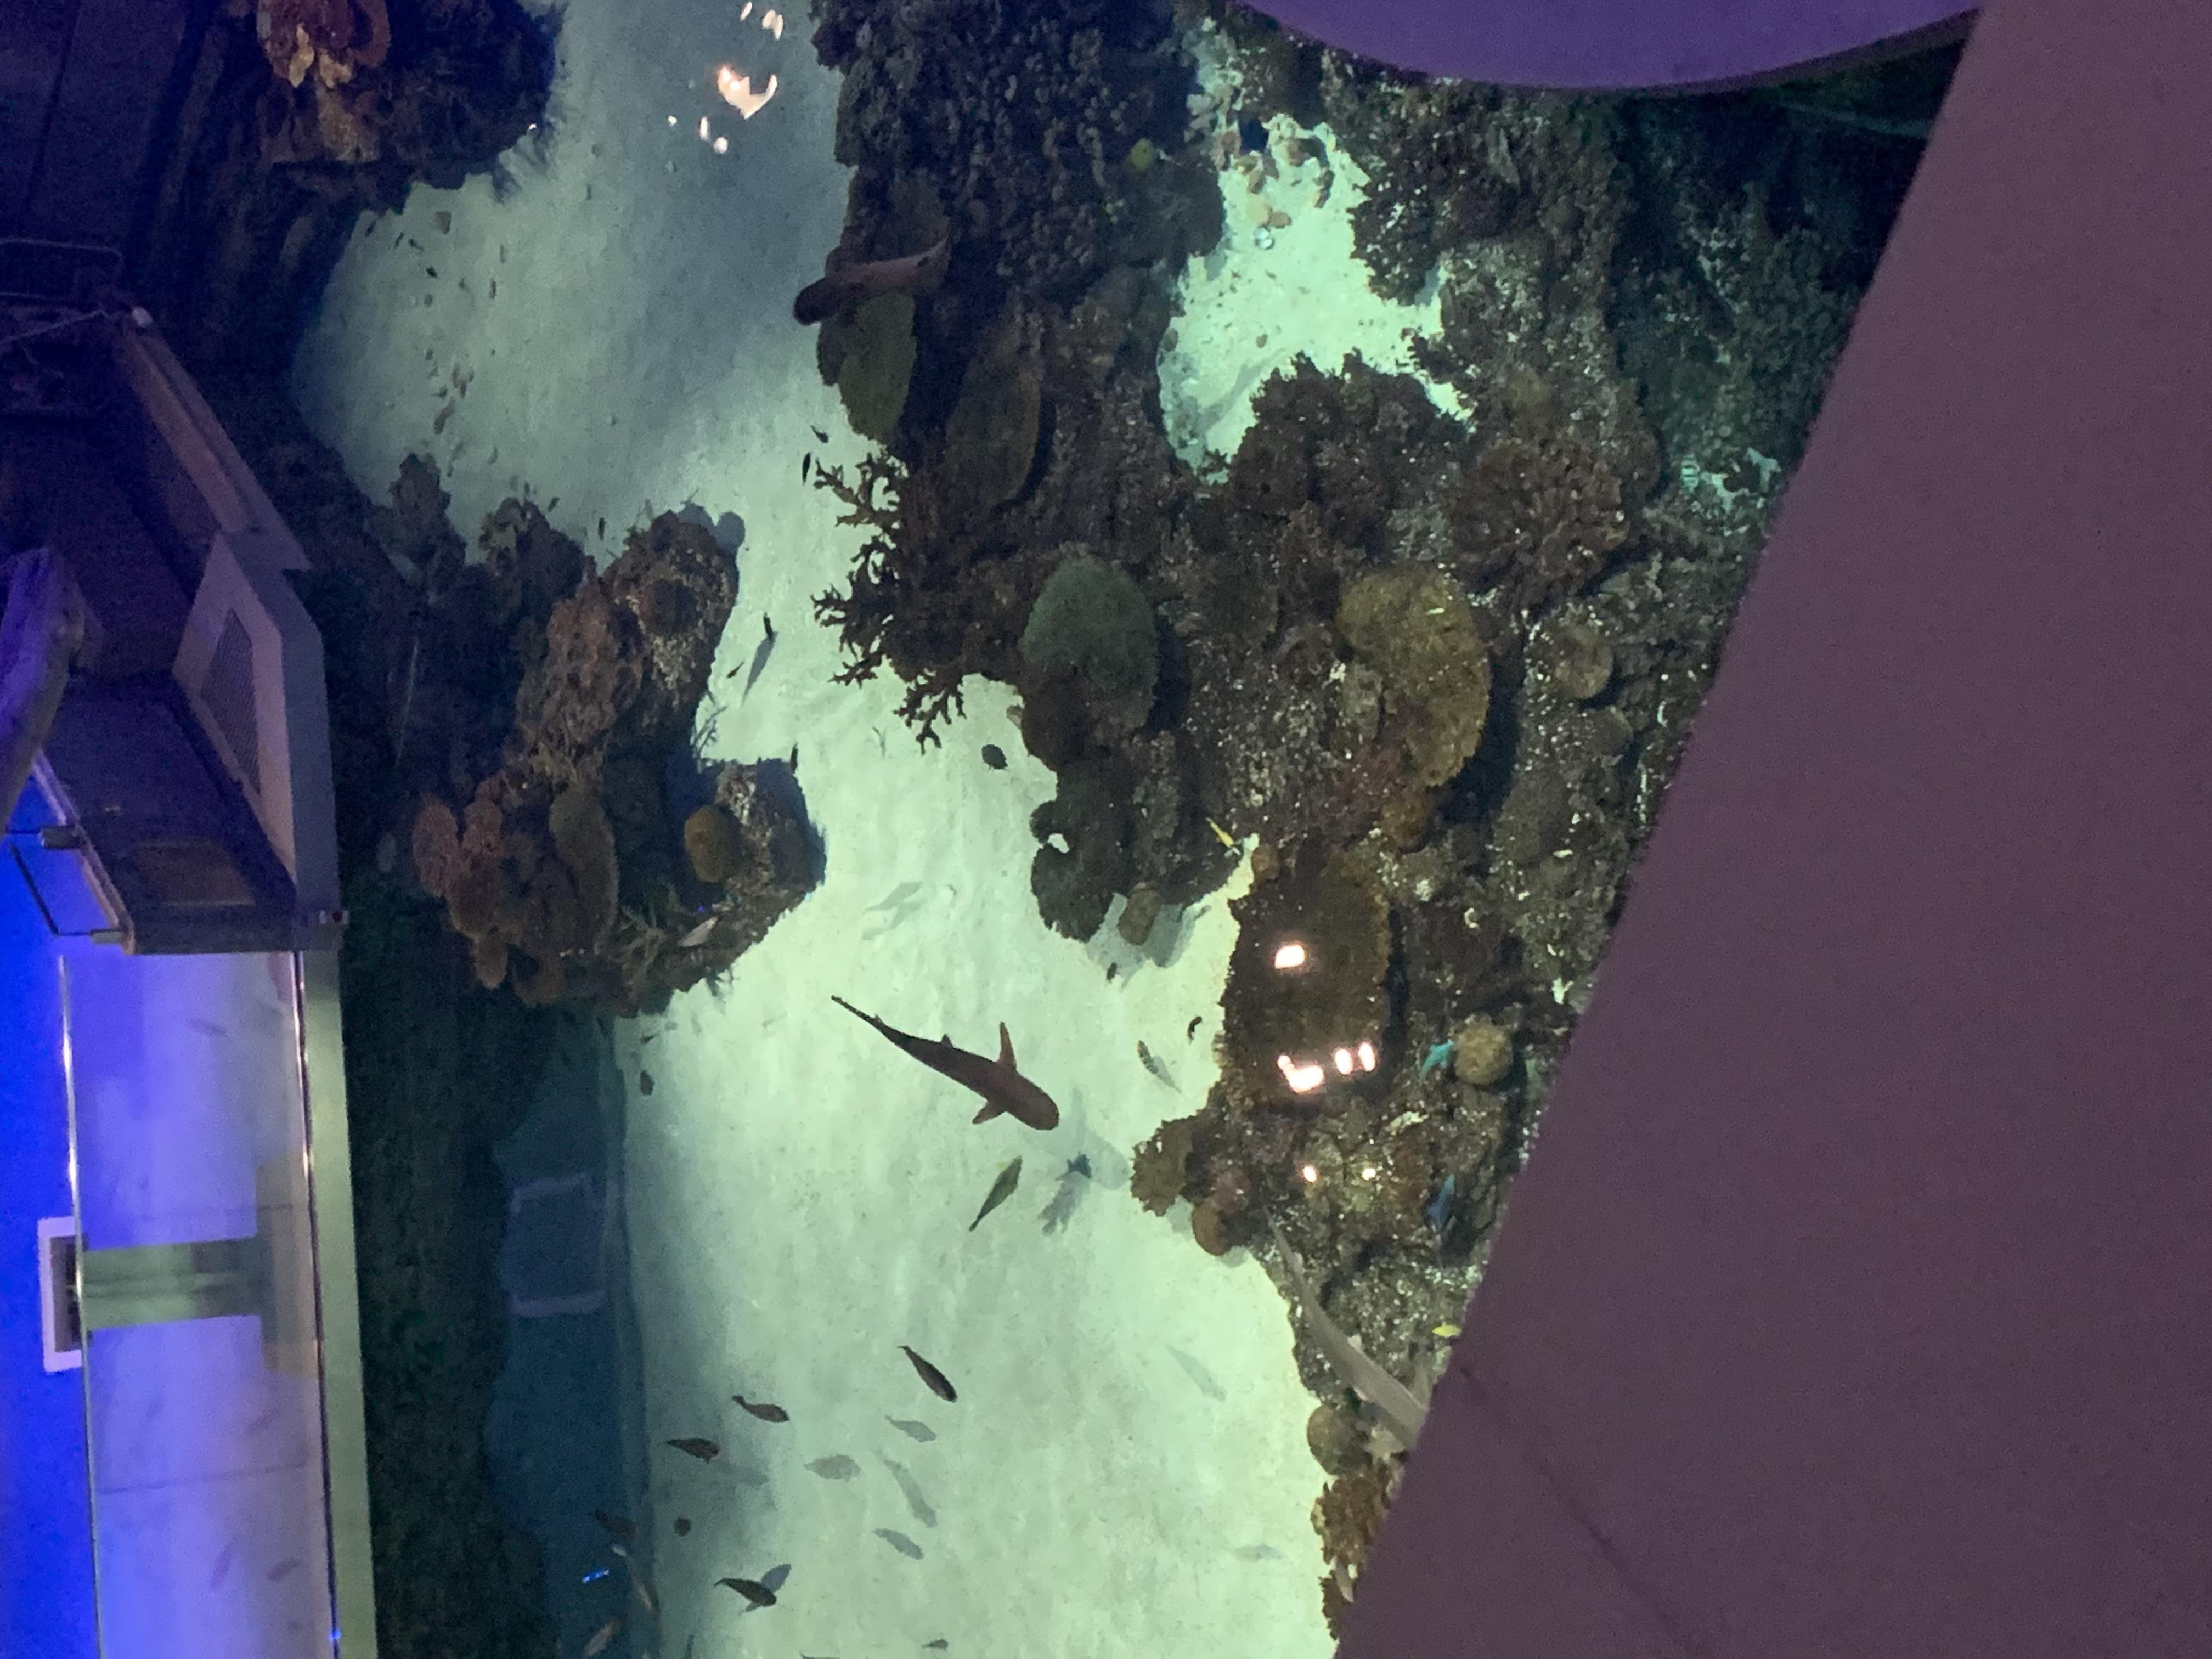fish: (968, 1150, 1033, 1234), (902, 1337, 960, 1406), (712, 1568, 787, 1617), (658, 1427, 728, 1469), (725, 1392, 792, 1429)
shark: (827, 992, 1062, 1136)
